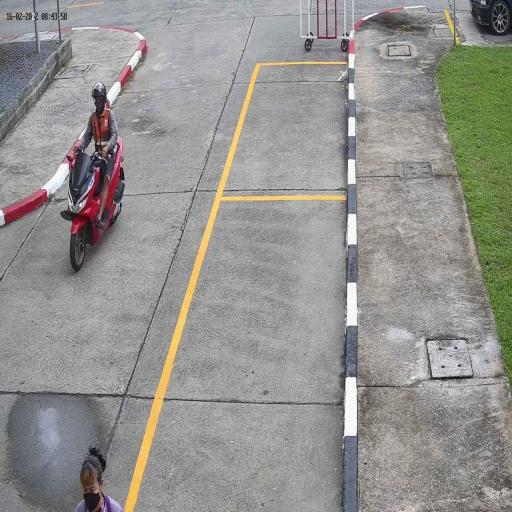motorcycle: (62, 132, 126, 273)
